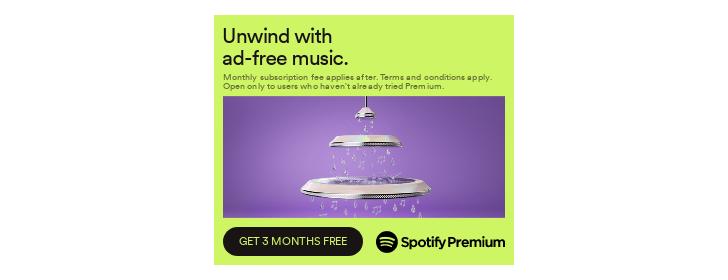fake_button: (221, 223, 367, 262)
